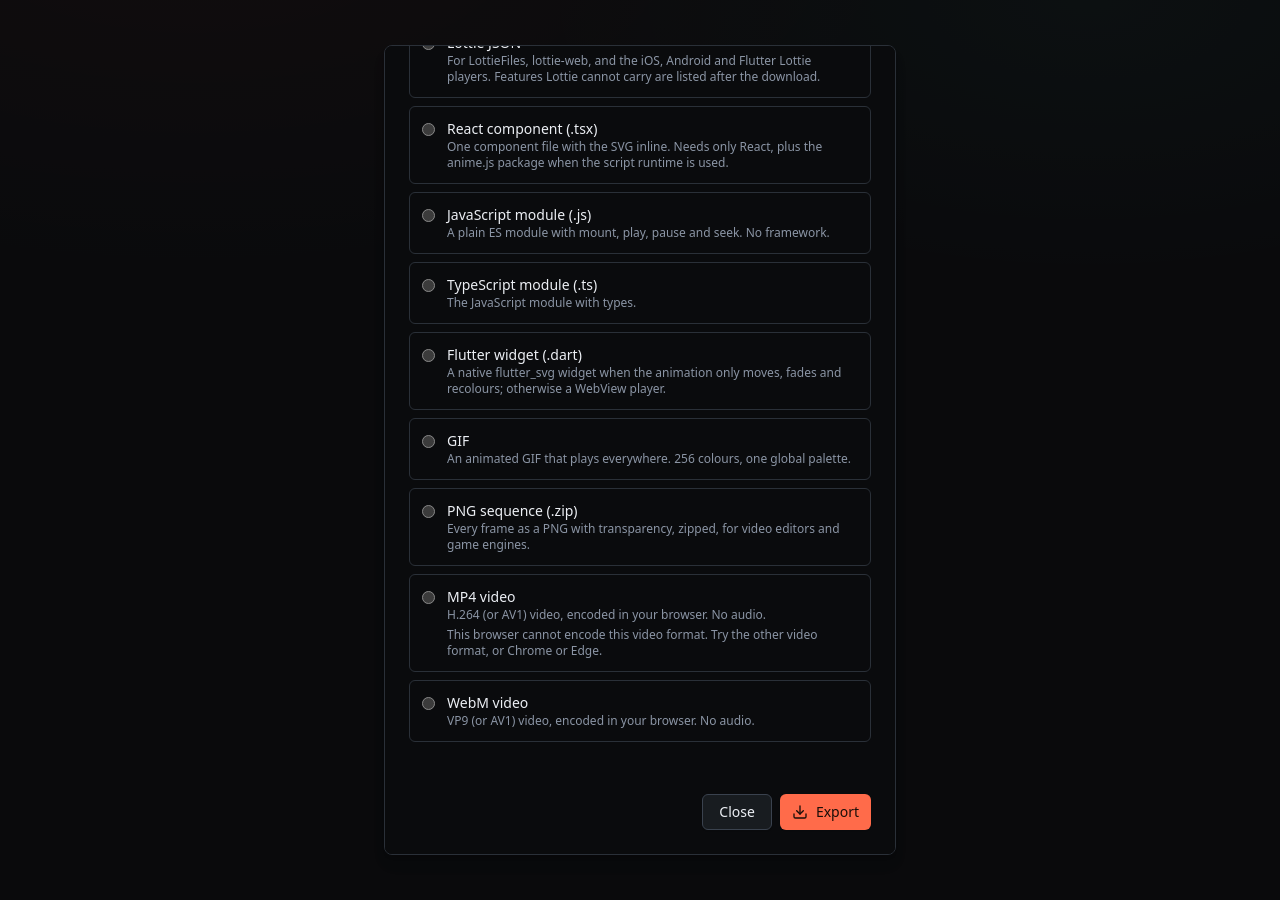
Scenario: MM47 raster formats in the export dialog › H.264 unsupported but VP9 supported: MP4 disabled, WebM enabled
(page scrolled)
Click the radio button labelled "MP4 video" at coordinates (428, 598), box [422,591,435,604]
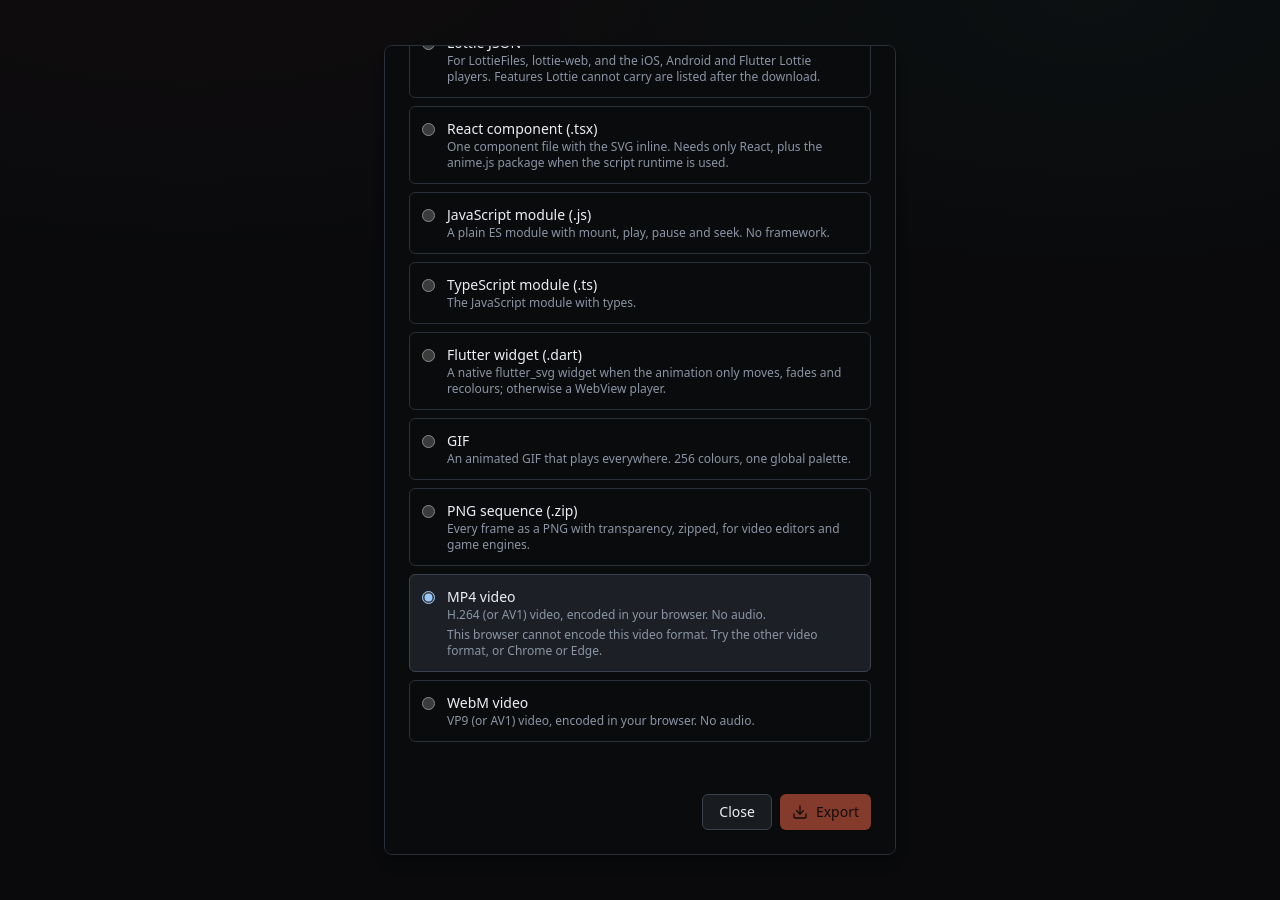
Check: the button "Export" is disabled, box [780,794,871,830]
Click the radio button labelled "WebM video" at coordinates (428, 704), box [422,697,435,710]
(page scrolled)
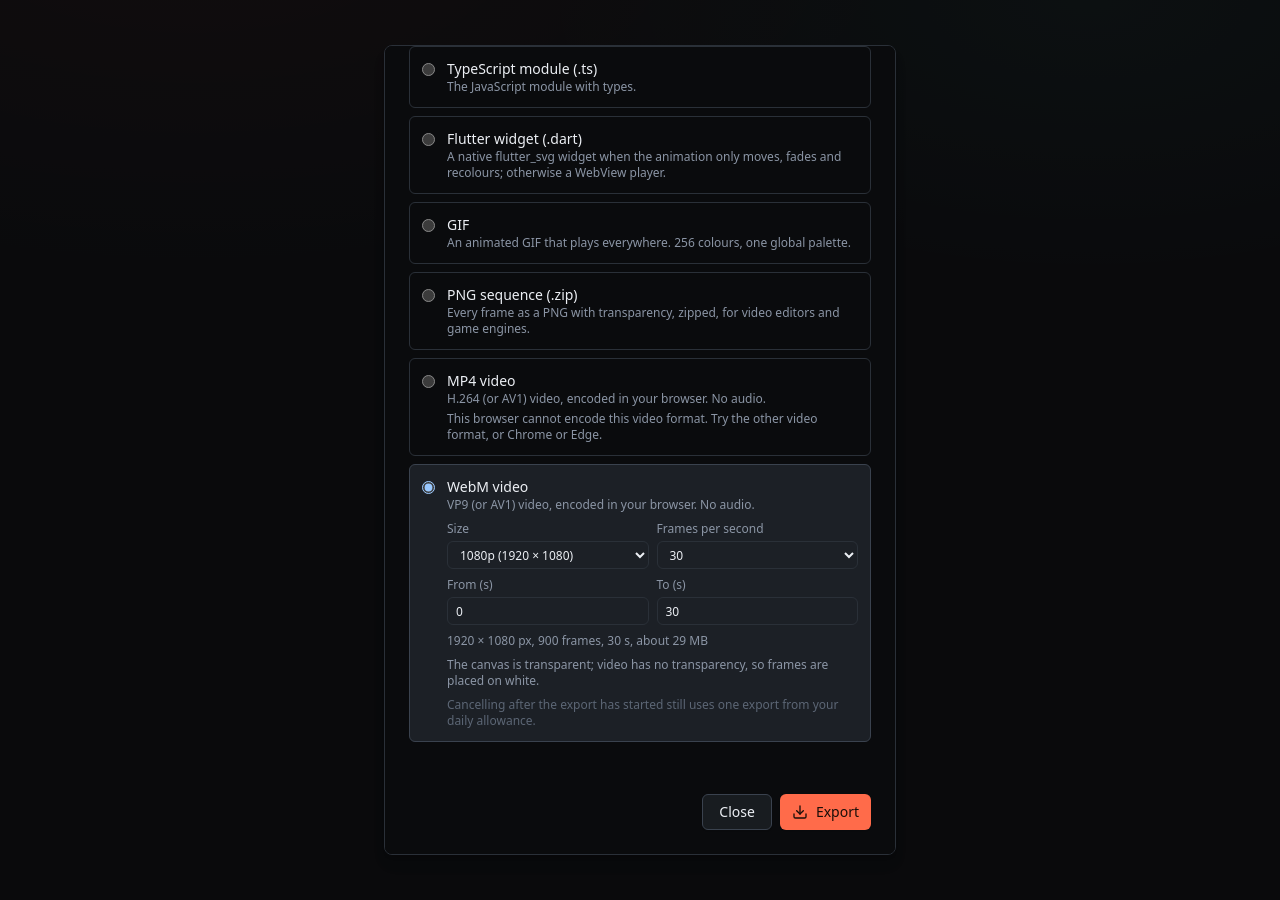
Check: the button "Export" is enabled, box [780,794,871,830]
